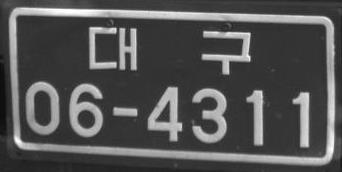0: (26, 80, 59, 136)
1: (240, 89, 274, 145), (287, 91, 321, 147)
3: (192, 86, 227, 143)
4: (146, 86, 182, 141)
6: (69, 82, 103, 138)
대구_D: (87, 26, 250, 75)
